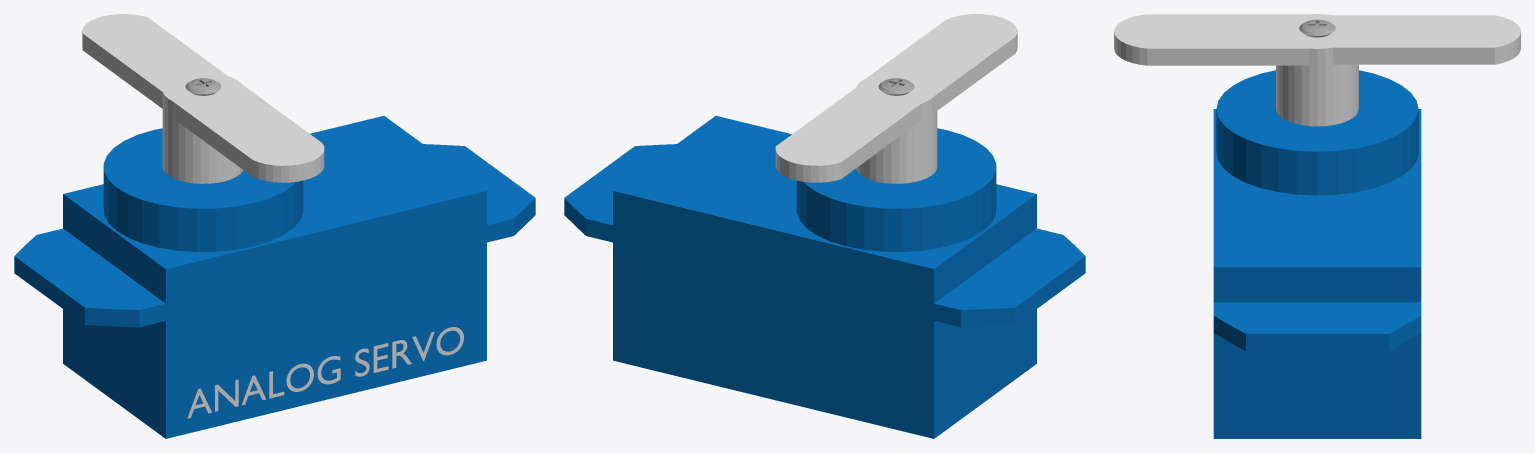
The model's file is MicroServo.glb.
3 views of the same model, side by side, from view 1: azimuth 30°, elevation 25°; view 2: azimuth 150°, elevation 25°; view 3: azimuth 270°, elevation 25° (orthographic).
Visible parts, largest first — view 1: Micro Servo, Text; view 2: Micro Servo; view 3: Micro Servo.
Part boxes in pixels (box(x1,y1,x2,y2)): Micro Servo: box(14, 14, 535, 438); Text: box(187, 327, 463, 418); Micro Servo: box(564, 14, 1085, 438); Micro Servo: box(1114, 14, 1520, 438).
Size of the model in its own units: 0.7561 by 0.4751 by 0.5847.
